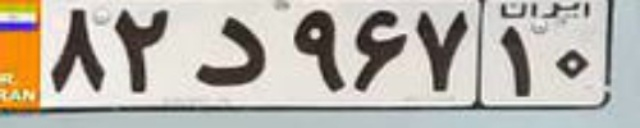0: (551, 48, 594, 80)
1: (497, 23, 533, 97)
2: (114, 7, 169, 94)
6: (350, 9, 407, 91)
7: (417, 8, 469, 92)
8: (47, 7, 106, 93)
9: (292, 9, 343, 91)
dal: (191, 16, 272, 87)
